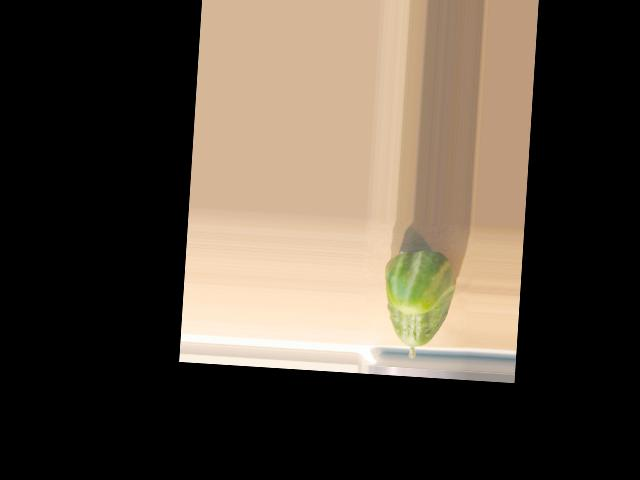cucumber: (379, 247, 456, 361)
